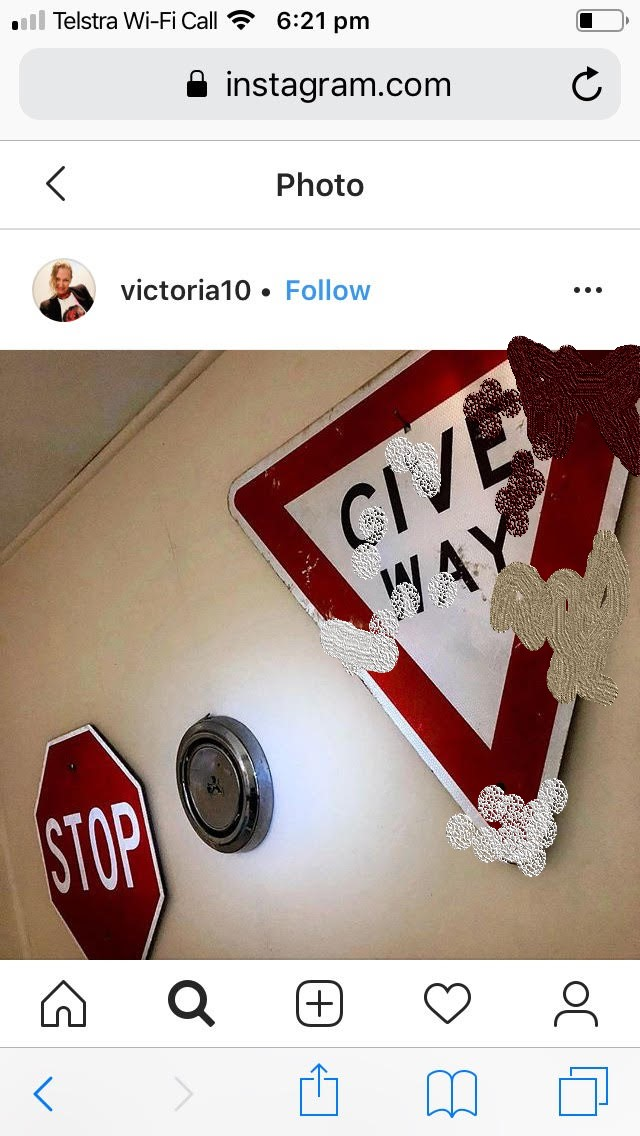giveway: (337, 361, 602, 865), (290, 390, 520, 774), (230, 442, 629, 639)
